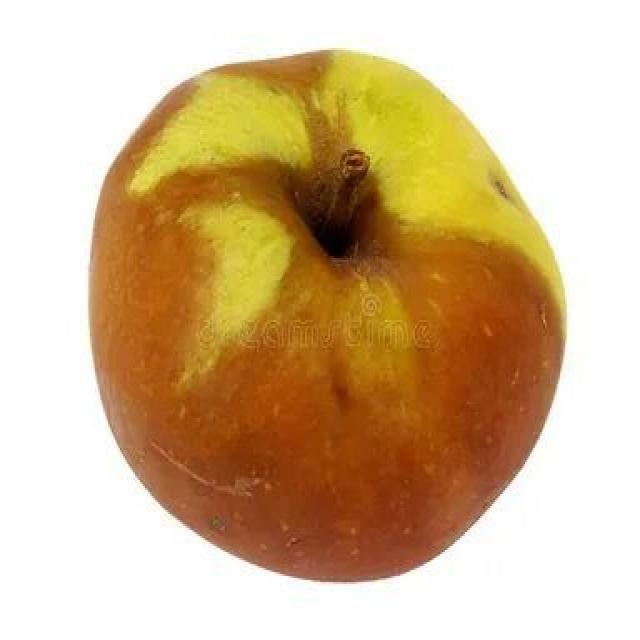Rotten: (97, 63, 560, 575)
